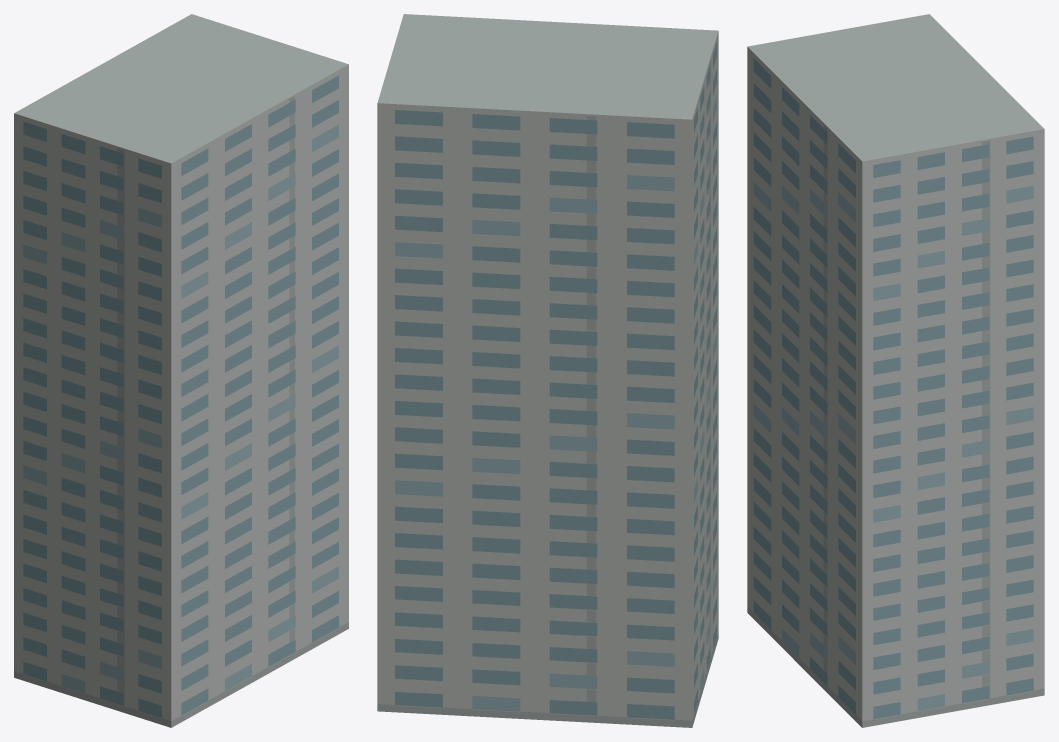
The model's file is residential-7ccaafa7-6ab7-4eaf-9ae0-de82d01f1be4.glb.
3 views of the same model, side by side, from view 1: azimuth 30°, elevation 25°; view 2: azimuth 150°, elevation 25°; view 3: azimuth 270°, elevation 25° (orthographic). The views are drawn at different scales.
Parts seen in each view (by area): view 1: residential-7ccaafa7-6ab7-4eaf-9ae0-de82d01f1be4.tmp; view 2: residential-7ccaafa7-6ab7-4eaf-9ae0-de82d01f1be4.tmp; view 3: residential-7ccaafa7-6ab7-4eaf-9ae0-de82d01f1be4.tmp.
Part boxes in pixels (box(x1,y1,x2,y2)): residential-7ccaafa7-6ab7-4eaf-9ae0-de82d01f1be4.tmp: box(14, 14, 348, 727); residential-7ccaafa7-6ab7-4eaf-9ae0-de82d01f1be4.tmp: box(377, 14, 718, 727); residential-7ccaafa7-6ab7-4eaf-9ae0-de82d01f1be4.tmp: box(747, 14, 1044, 727).
Size of the model in its own units: 46.38 by 83 by 39.48.
